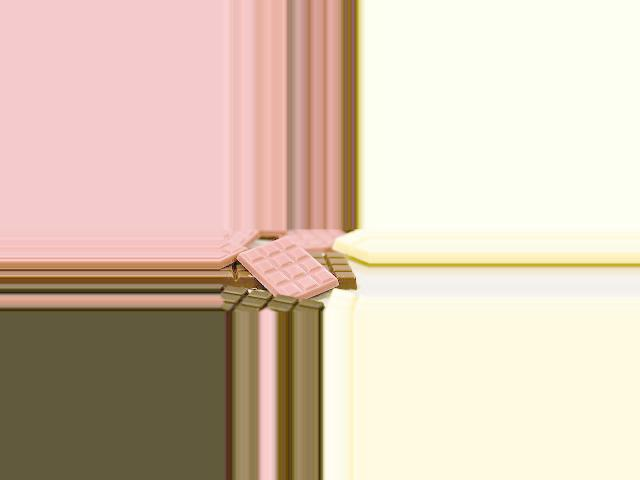chocolate: (236, 233, 336, 312)
